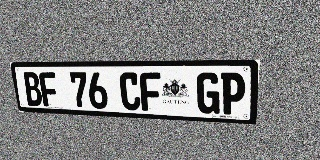6: (87, 72, 108, 109)
7: (68, 72, 90, 108)
B: (22, 72, 43, 106)
C: (119, 72, 141, 111)
F: (139, 72, 162, 111), (38, 72, 60, 107)
G: (197, 72, 220, 114)
P: (220, 72, 246, 115)
